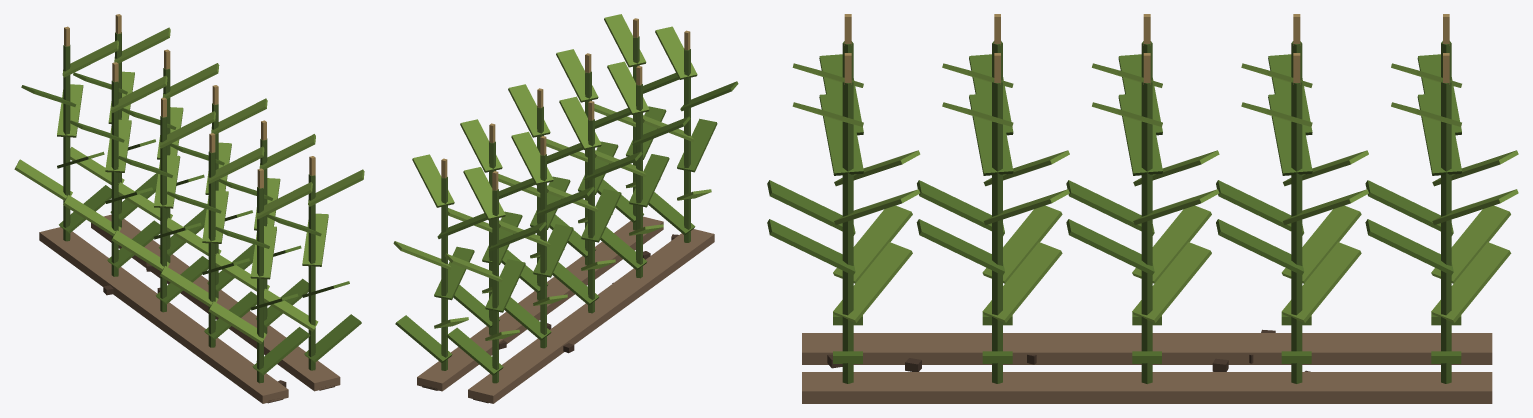
The model's file is crop_corn_3.glb.
3 renders of one model, left to right at view 1: azimuth 30°, elevation 25°; view 2: azimuth 150°, elevation 25°; view 3: azimuth 270°, elevation 25°, orthographic. The views are drawn at different scales.
Parts seen in each view (by area): view 1: room_crop_corn_3; view 2: room_crop_corn_3; view 3: room_crop_corn_3.
Boxes of the visible parts, x1,y1,x2,y2 form: room_crop_corn_3: [14, 14, 364, 403]; room_crop_corn_3: [393, 14, 738, 403]; room_crop_corn_3: [767, 14, 1518, 403].
Bounding box in the file's own units: 1.1 × 1.63 × 3.27.
